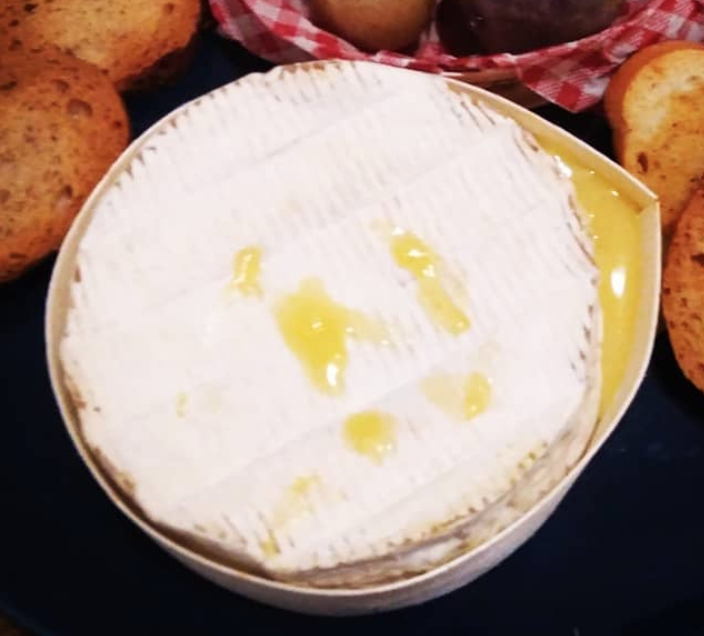camembert: (54, 56, 647, 586)
